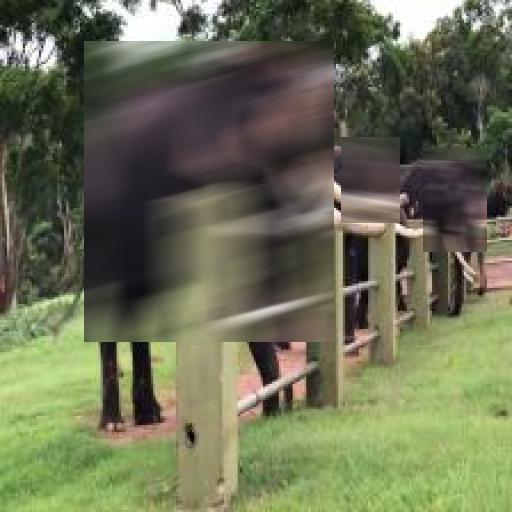Elephant: (84, 41, 334, 342), (423, 148, 487, 252), (341, 137, 400, 223)
